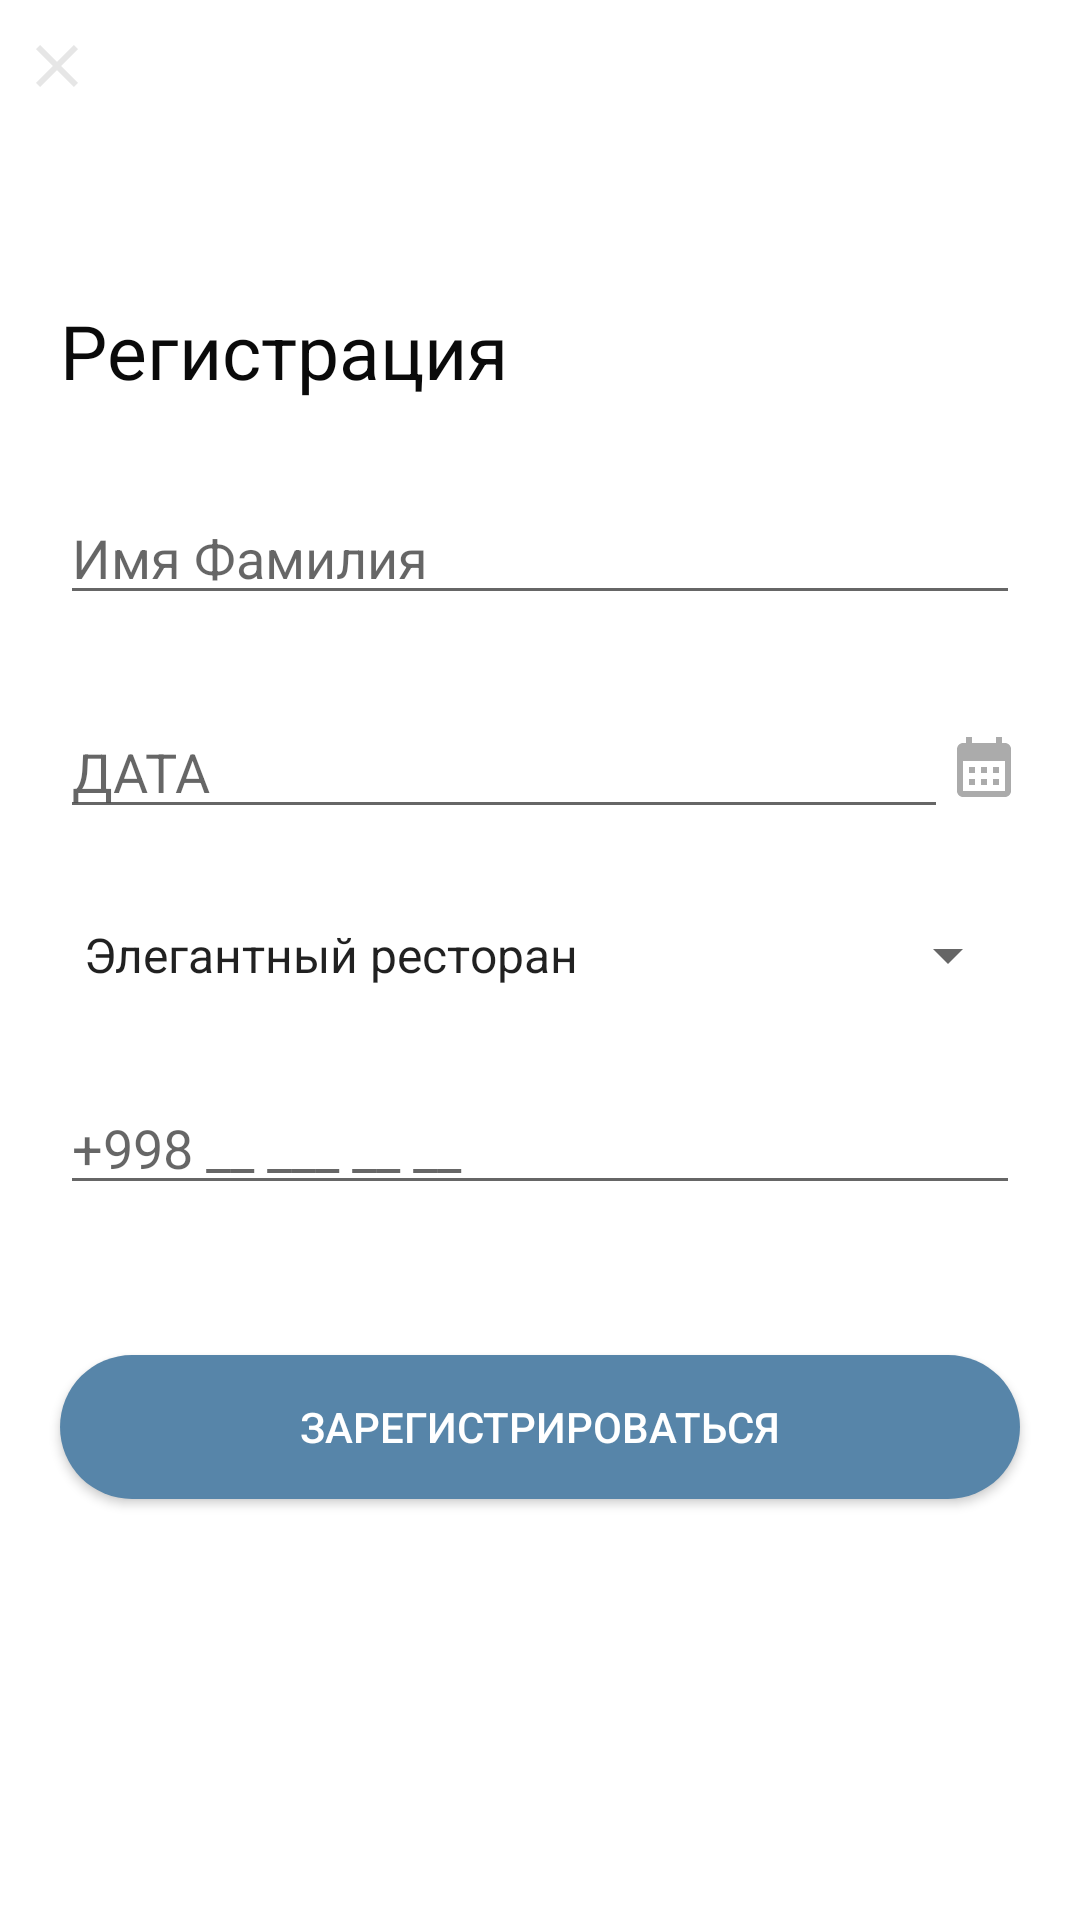

Named icons in this screenshot (1080w x 1920h) and their centers, (x=x, y=y):
calendar month: (x=984, y=767)
close: (x=57, y=66)
